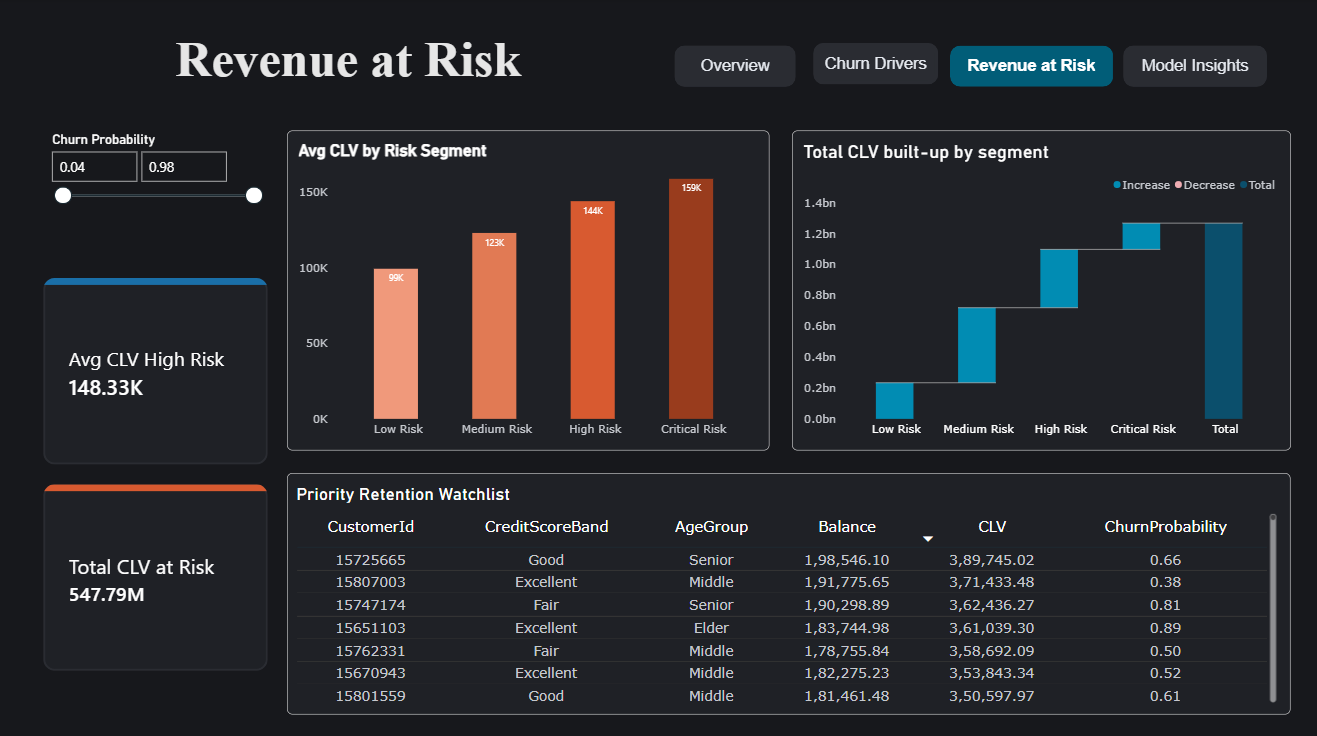

What the dashboard file says about the page in this screenshot:
{"tool":"powerbi","page":{"name":"Revenue at Risk ","canvas":[1920,1080],"ordinal":3},"visuals":[{"type":"shape","box":[1630.5,68.8,208,59.7],"z":0},{"type":"shape","box":[980.8,68.8,175.5,59.7],"z":1000},{"type":"textbox","box":[155.6,47.1,705.8,97.7],"z":2000},{"type":"shape","box":[1181.7,65.1,181,59.7],"z":3000},{"type":"shape","box":[1377.2,68.8,240.7,59.7],"z":4000},{"type":"tableEx","title":"Priority Retention Watchlist","fields":{"Values":["churn_scored_data.CustomerId","churn_scored_data.CreditScoreBand","churn_scored_data.AgeGroup","churn_scored_data.Balance","churn_scored_data.CLV","churn_scored_data.ChurnProbability"]},"box":[419.8,687.7,1453.2,349.3],"z":5000},{"type":"clusteredColumnChart","title":"Avg CLV by Risk Segment","fields":{"Category":["churn_scored_data.RiskSegment"],"Y":["churn_scored_data.Avg CLV"]},"box":[419.8,191.8,698.5,463.3],"z":6000},{"type":"waterfallChart","title":"Total CLV built-up by  segment","fields":{"Category":["churn_scored_data.RiskSegment"],"Y":["churn_scored_data.Total CLV"]},"box":[1150.9,191.8,722.1,463.3],"z":7000},{"type":"cardVisual","fields":{"Data":["churn_scored_data.Avg CLV High Risk"]},"box":[67,405.4,325.7,270],"z":8000},{"type":"cardVisual","fields":{"Data":["churn_scored_data.Total CLV at Risk"]},"box":[67,704,325,270],"z":9000},{"type":"slicer","fields":{"Values":["churn_scored_data.ChurnProbability"]},"box":[67,173.7,325,184.6],"z":10000}]}

Visuals, with their boxes in screenshot pixels (x1, y1, x2, y2), scaled from the page's 1920x1080 canvas onto the 1317x736 screenshot:
shape: 1118 47 1261 88
shape: 673 47 793 88
textbox: 107 32 591 99
shape: 811 44 935 85
shape: 945 47 1110 88
"Priority Retention Watchlist" tableEx: 288 469 1285 707
"Avg CLV by Risk Segment" clusteredColumnChart: 288 131 767 446
"Total CLV built-up by  segment" waterfallChart: 789 131 1285 446
cardVisual - churn_scored_data.Avg CLV High Risk: 46 276 269 460
cardVisual - churn_scored_data.Total CLV at Risk: 46 480 269 664
slicer - churn_scored_data.ChurnProbability: 46 118 269 244
